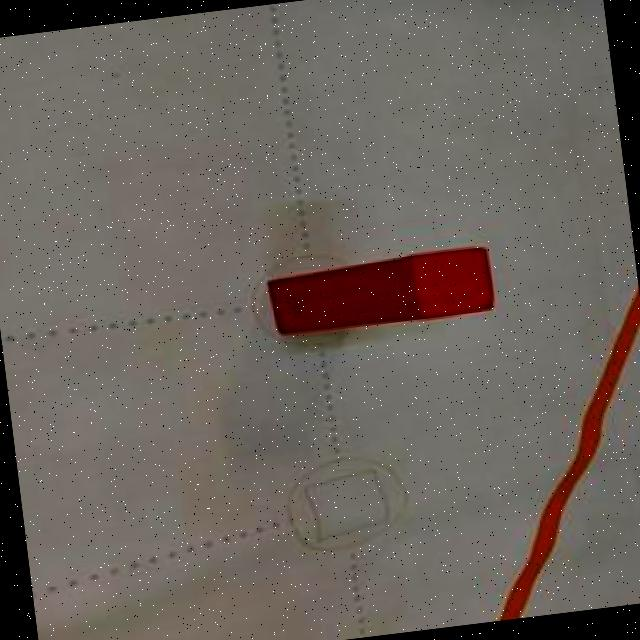redbox: (264, 242, 498, 342)
